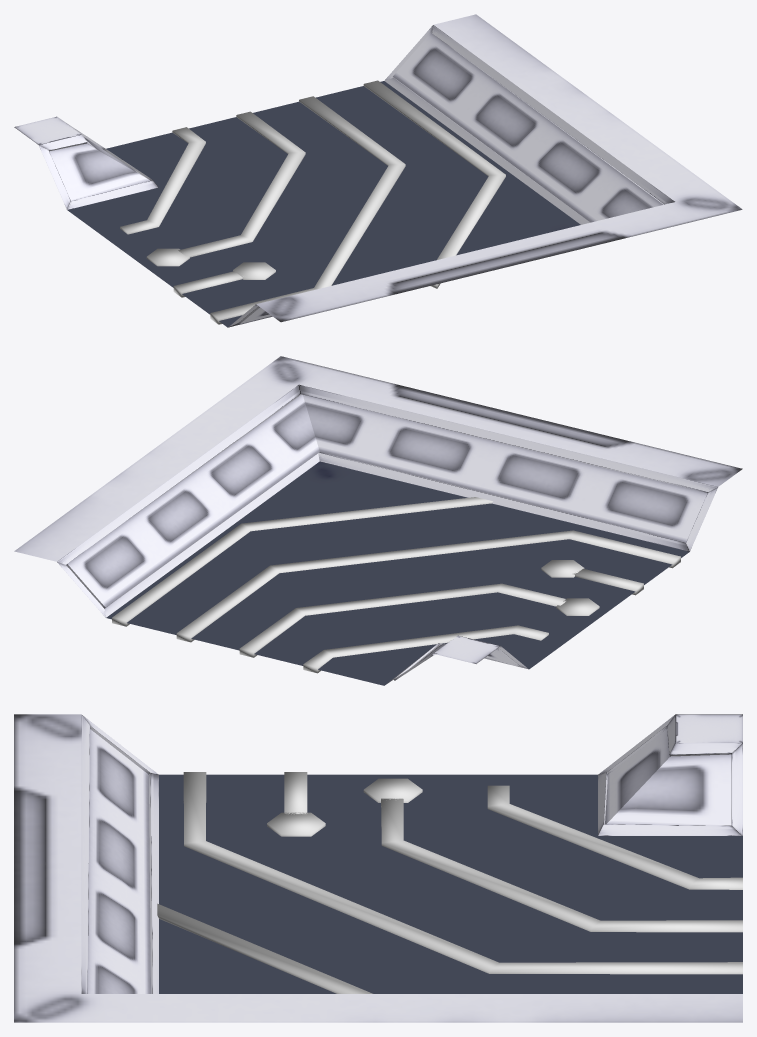
Rendered from Sag Alt Kose.fbx.
3 views of the same model, one above another, from view 1: azimuth 30°, elevation 25°; view 2: azimuth 150°, elevation 25°; view 3: azimuth 270°, elevation 25° (orthographic). The views are drawn at different scales.
Visible parts, largest first — view 1: sagaltkose; view 2: sagaltkose; view 3: sagaltkose.
Boxes of the visible parts, left/top/right/bottom form: sagaltkose: left=14, top=14, right=742, bottom=327; sagaltkose: left=14, top=356, right=742, bottom=685; sagaltkose: left=14, top=714, right=742, bottom=1022.
Size of the model in its own units: 200 by 19.81 by 200.
